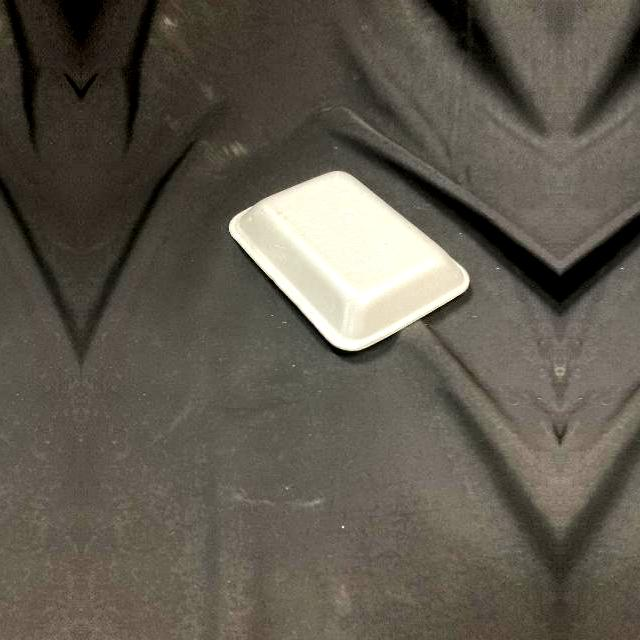Styrofoam: (228, 168, 472, 352), (228, 171, 469, 351)
